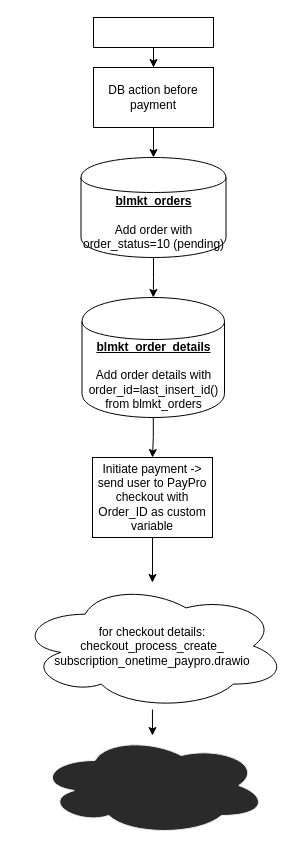
This 305x853 diagram has some shape labels left out. Here are the shapes that lost their labels. From the top down, the centre of each, then its label:
At pixel 153 32: "Order Placed".
At pixel 152 785: "See IPN Handler for next steps on successfull payment".
